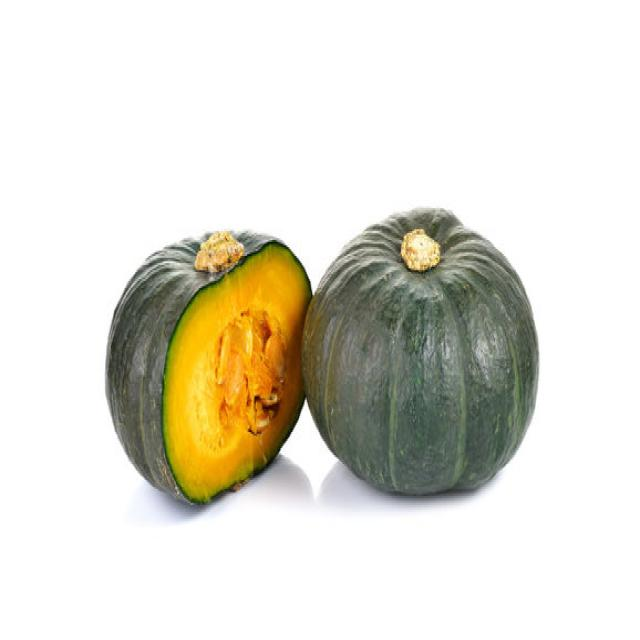Carrot: (213, 308, 286, 436)
Pumpkin: (300, 204, 539, 496), (104, 226, 312, 507)
